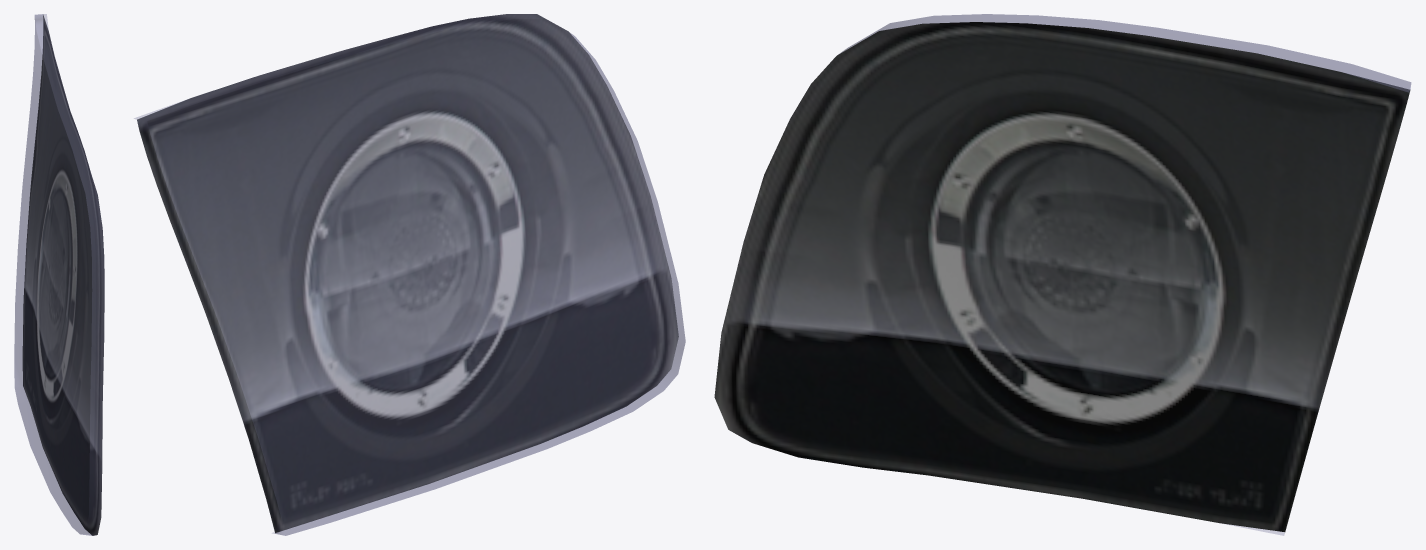
3 renders of one model, left to right at view 1: azimuth 30°, elevation 25°; view 2: azimuth 150°, elevation 25°; view 3: azimuth 270°, elevation 25°, orthographic. The views are drawn at different scales.
Parts seen in each view (by area): view 1: D160_541D_L_D160_541D_L_2_DTaSI, D160_541D_L_1_N_D160_541D_L; view 2: D160_541D_L_D160_541D_L_2_DTaSI, D160_541D_L_1_N_D160_541D_L; view 3: D160_541D_L_1_N_D160_541D_L, D160_541D_L_D160_541D_L_2_DTaSI.
Boxes of the visible parts, x1=… form: D160_541D_L_D160_541D_L_2_DTaSI: x1=14, y1=14, x2=104, y2=535; D160_541D_L_1_N_D160_541D_L: x1=22, y1=15, x2=104, y2=535; D160_541D_L_D160_541D_L_2_DTaSI: x1=134, y1=14, x2=685, y2=535; D160_541D_L_1_N_D160_541D_L: x1=137, y1=14, x2=678, y2=532; D160_541D_L_1_N_D160_541D_L: x1=714, y1=22, x2=1410, y2=531; D160_541D_L_D160_541D_L_2_DTaSI: x1=838, y1=14, x2=1411, y2=535.
Size of the model in its own units: 11.94 by 20.37 by 25.83.
